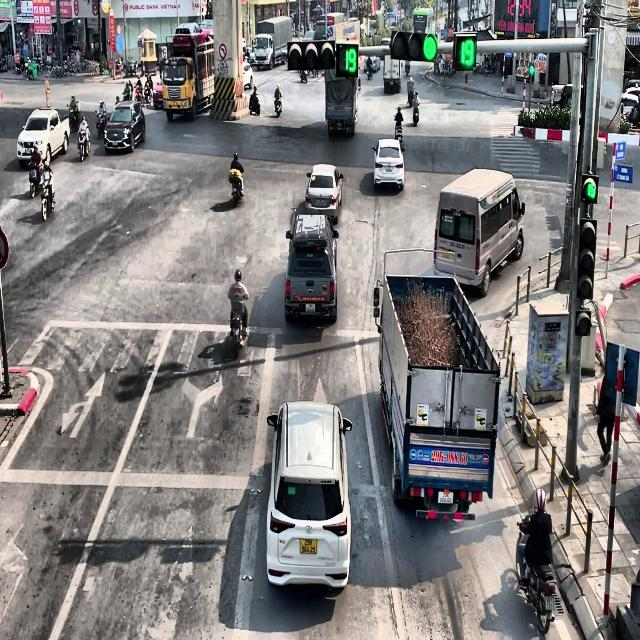lisence_plate: (298, 536, 318, 555), (437, 489, 454, 505), (449, 240, 466, 250), (304, 303, 316, 313), (442, 250, 451, 258), (334, 106, 344, 111), (317, 200, 324, 207), (386, 166, 393, 172), (337, 123, 342, 126)
